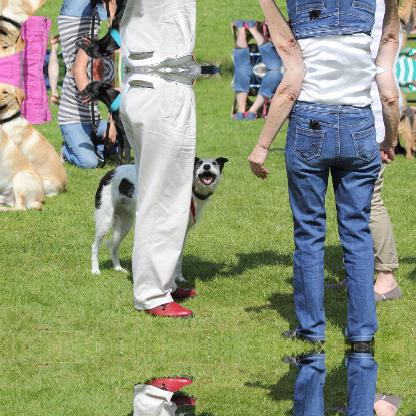Dog: (91, 156, 230, 282), (0, 80, 68, 198), (76, 80, 132, 166), (0, 0, 69, 58), (0, 128, 46, 209), (76, 0, 132, 59), (398, 86, 414, 158), (397, 0, 415, 53)
